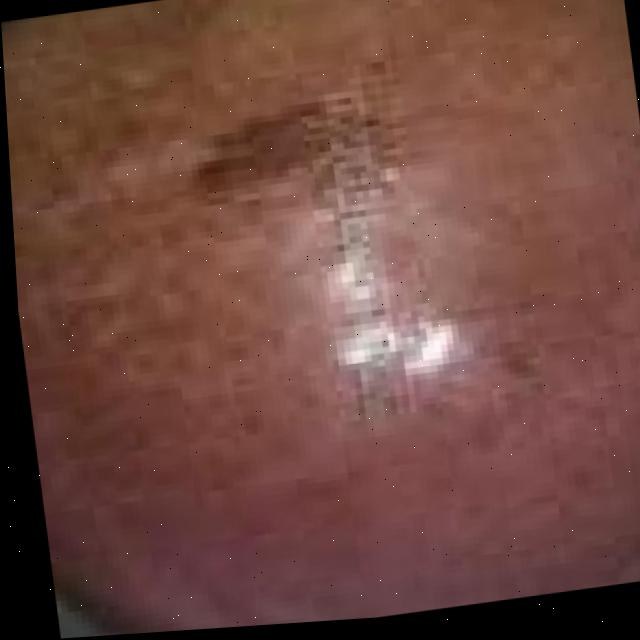Melasma: (210, 92, 374, 223)
